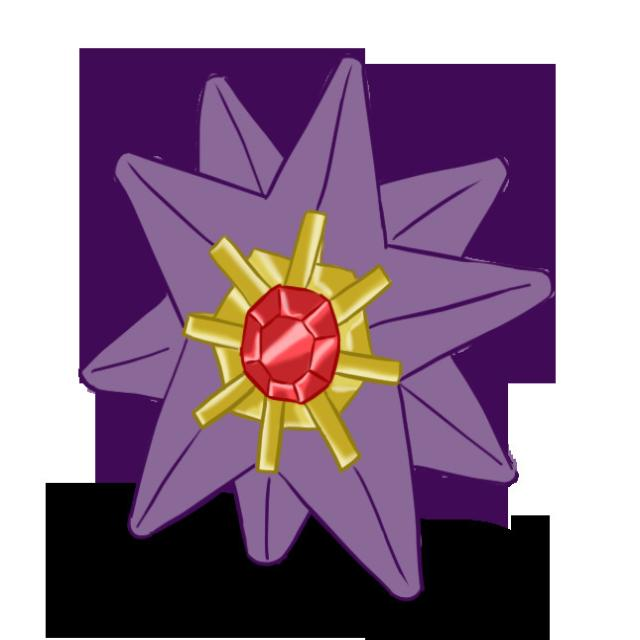Starmie: (109, 55, 511, 546)
